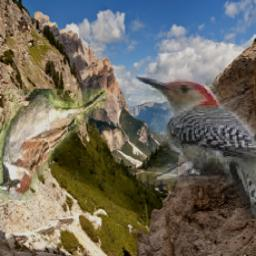Sparrow: (0, 90, 107, 201)
Woodpecker: (134, 74, 256, 219)
